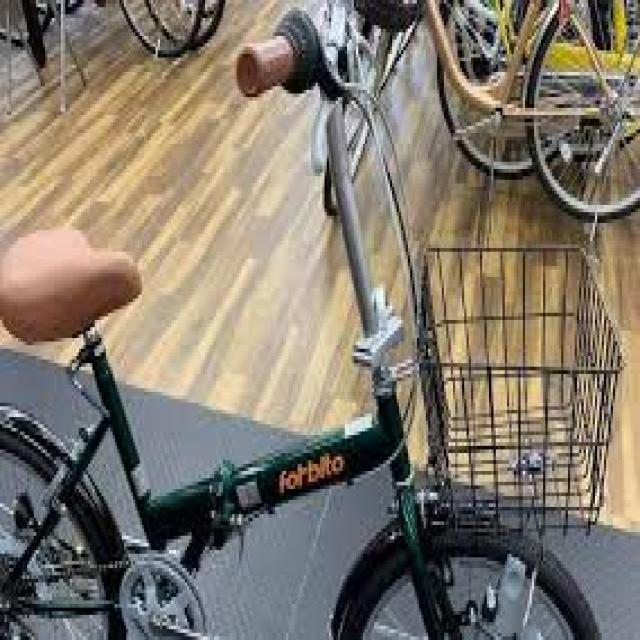basket: (415, 233, 624, 536)
